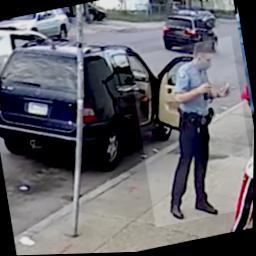nonspitting: (125, 36, 255, 231)
